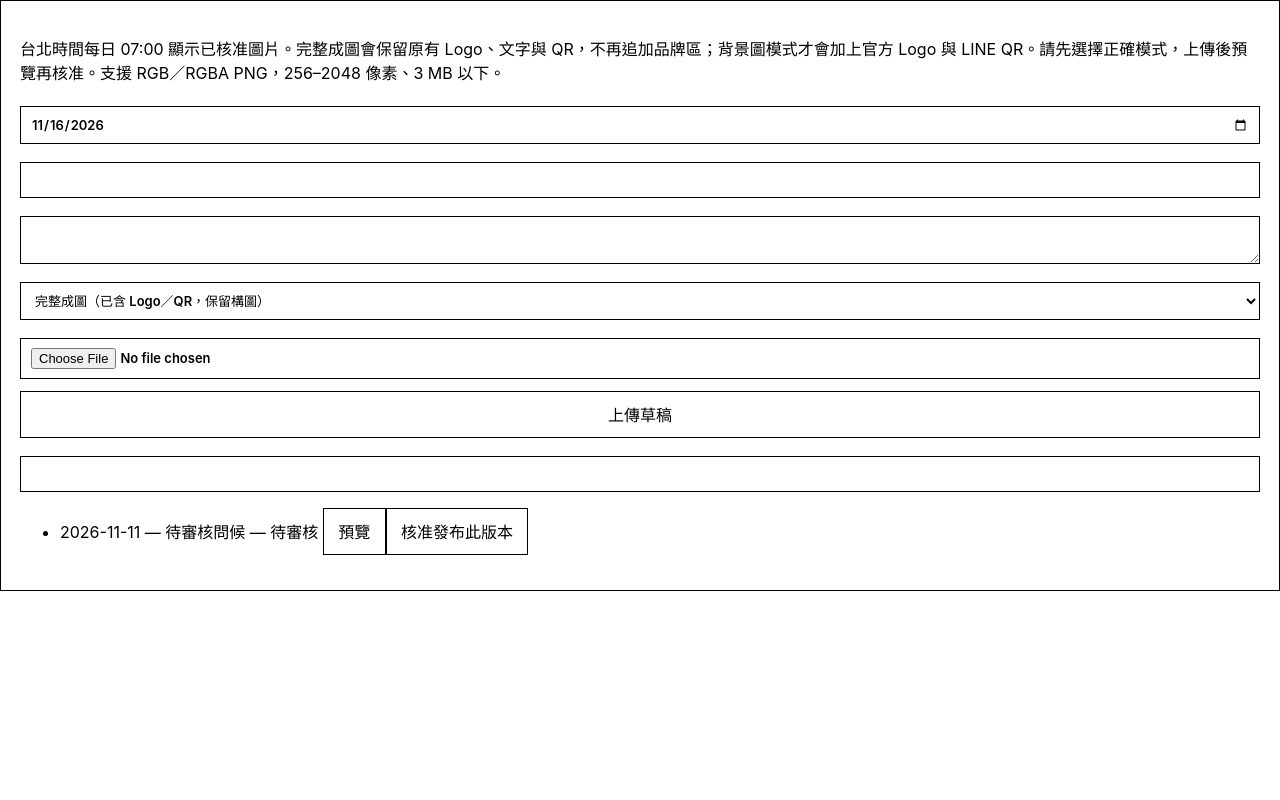
Test: does not allow publication before preview and explicit approval reference
Later steps or results of the test are not shown.
Check: the button "核准發布此版本" is disabled, box [386,508,528,555]
Click the button "預覽".
click(354, 531)  # box [323,508,386,555]
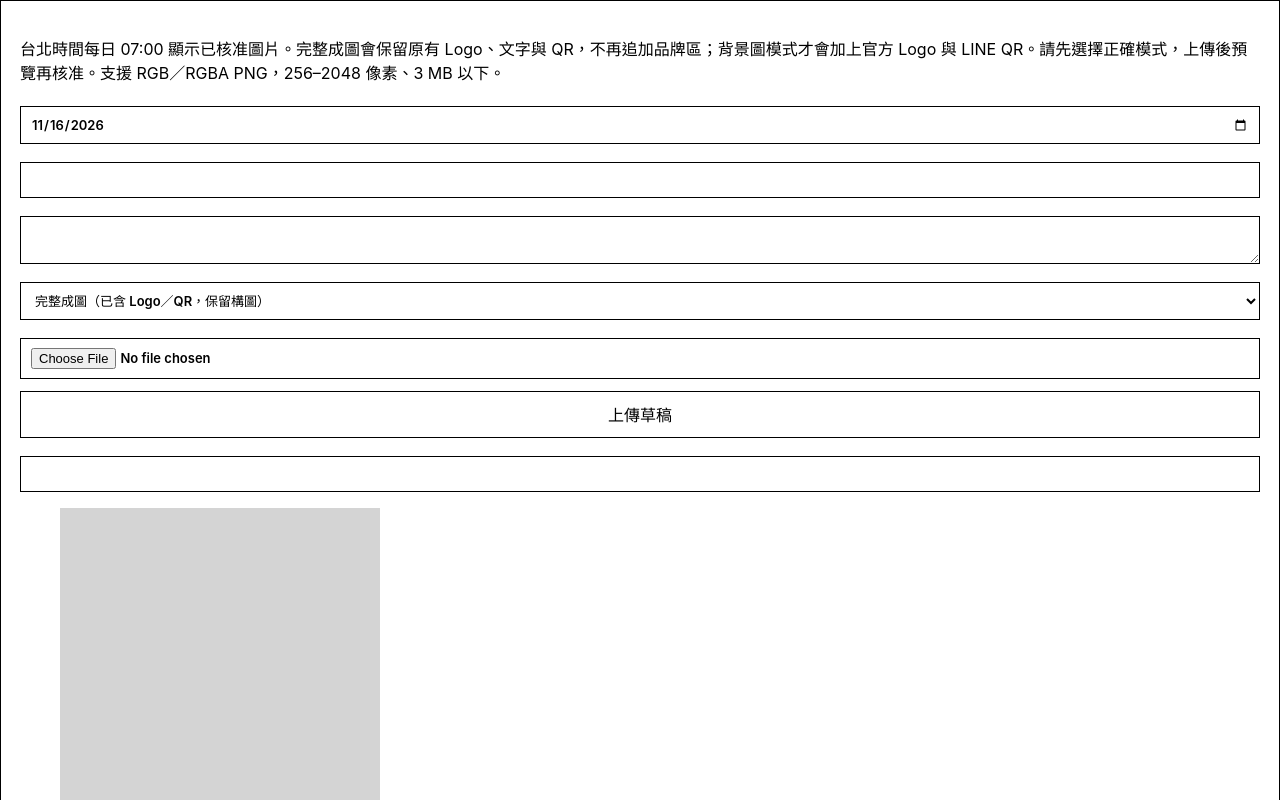
Type "APPROVAL-TEST" into the 2nd field.
click(640, 474); type("APPROVAL-TEST")  # box [20,456,1260,492]
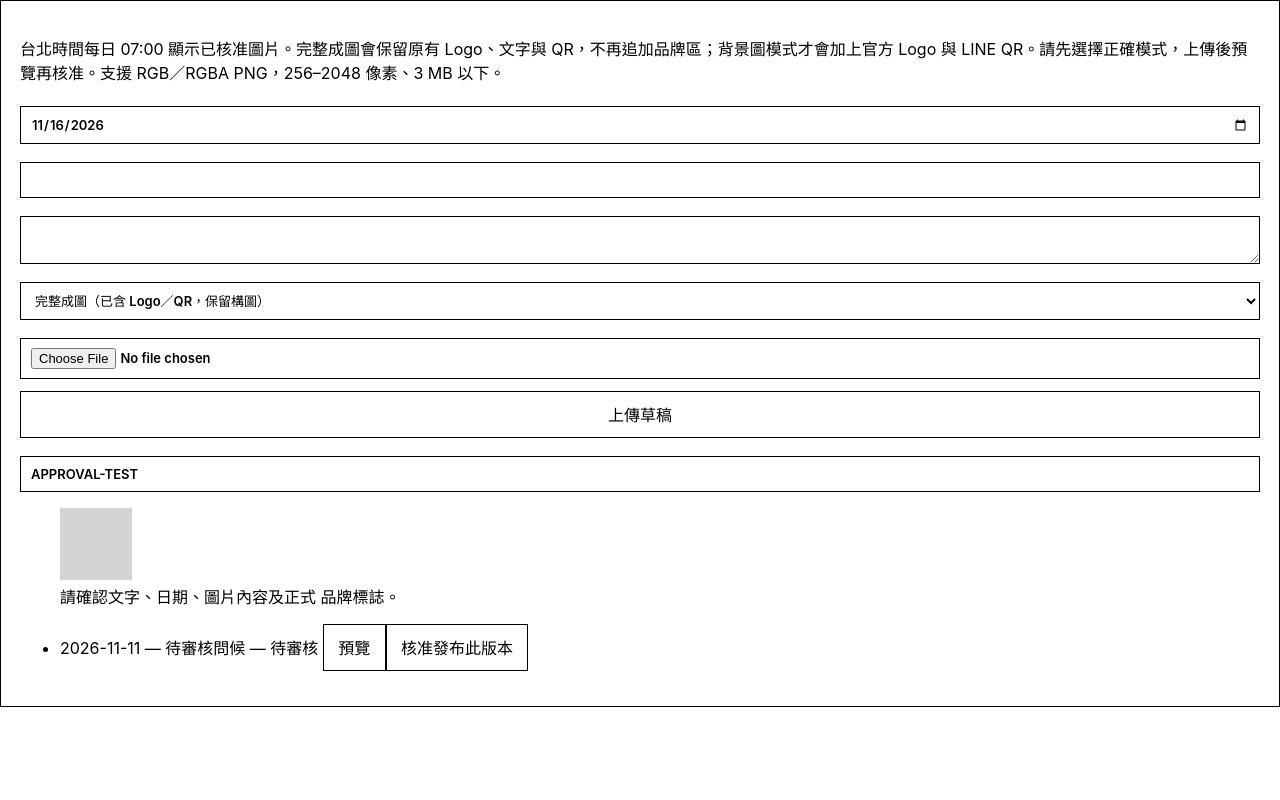
Check: the button "核准發布此版本" is enabled, box [386,624,528,671]
